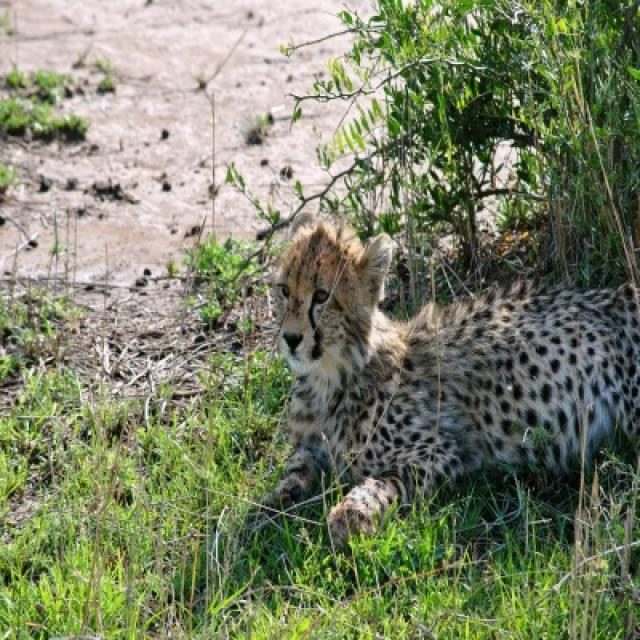Cheetah: (262, 216, 638, 550)
